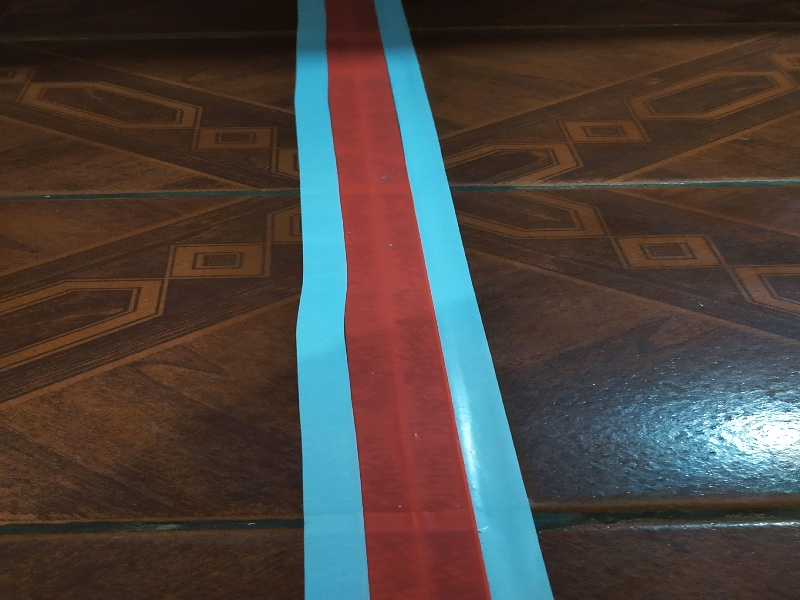reta: (287, 9, 550, 600)
